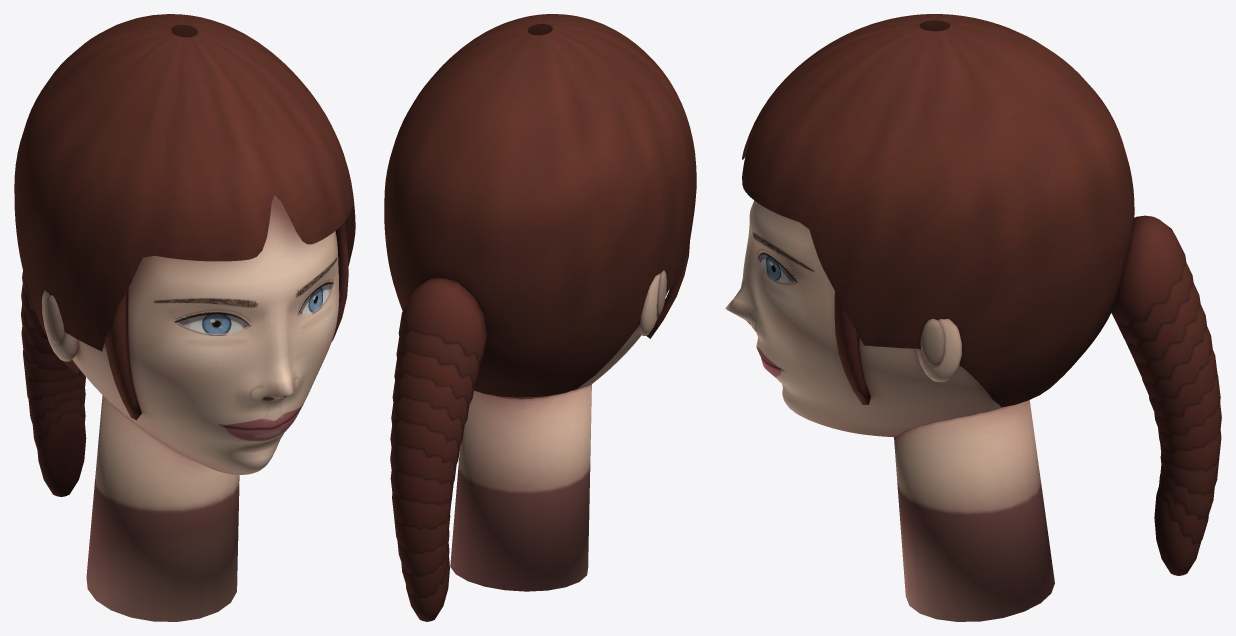
File: cabeza-claire-f.glb
3 renders of one model, left to right at view 1: azimuth 30°, elevation 25°; view 2: azimuth 150°, elevation 25°; view 3: azimuth 270°, elevation 25°, orthographic. The views are drawn at different scales.
Visible parts, largest first — view 1: h_Head; view 2: h_Head; view 3: h_Head.
Boxes of the visible parts, x1=… form: h_Head: x1=14, y1=14, x2=355, y2=621; h_Head: x1=384, y1=14, x2=696, y2=621; h_Head: x1=725, y1=14, x2=1221, y2=621.
Bounding box in the file's own units: 0.1634 × 0.3277 × 0.2586.
Materials: 1 (1 with a texture image).
